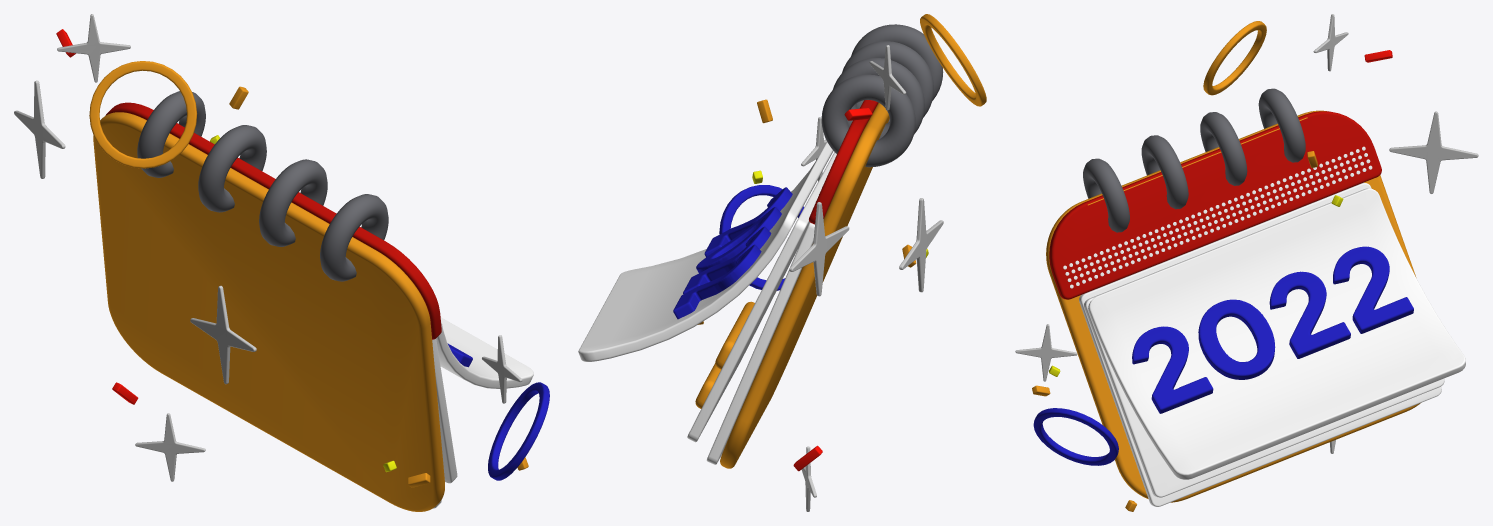
The model's file is calendar.obj.
3 views of the same model, side by side, from view 1: azimuth 30°, elevation 25°; view 2: azimuth 150°, elevation 25°; view 3: azimuth 270°, elevation 25° (orthographic). The views are drawn at different scales.
Parts seen in each view (by area): view 1: Calendar; view 2: Calendar; view 3: Calendar.
Boxes of the visible parts, x1=… form: Calendar: x1=14, y1=14, x2=549, y2=511; Calendar: x1=578, y1=14, x2=986, y2=511; Calendar: x1=1015, y1=14, x2=1478, y2=511.
Size of the model in its own units: 0.7136 by 0.8266 by 0.8524.
